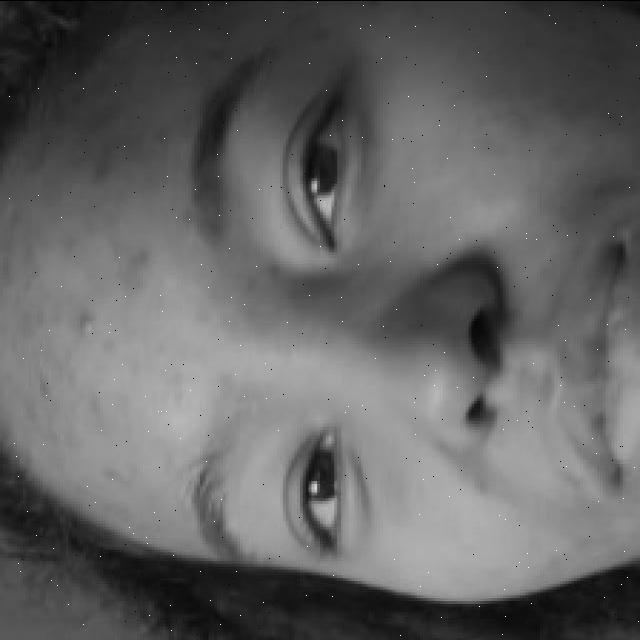Acne: (13, 16, 181, 480)
